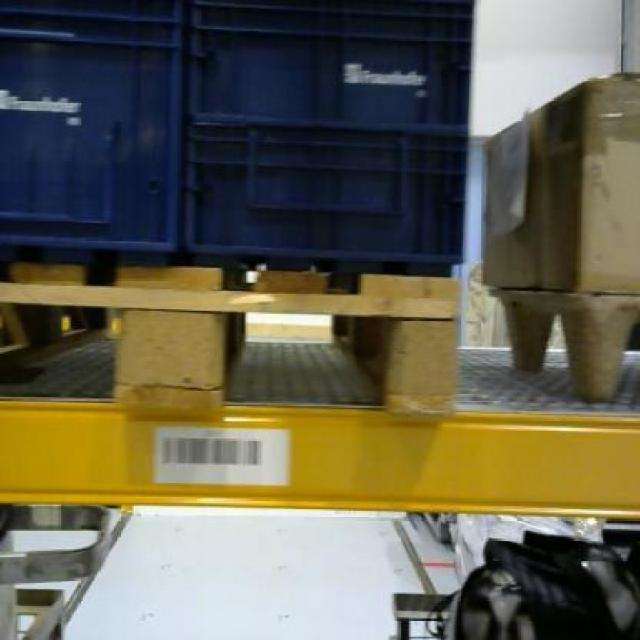box: (482, 69, 640, 294)
